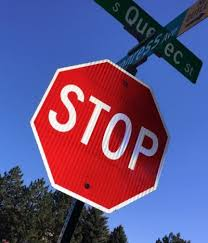Stop: (30, 52, 185, 227)
